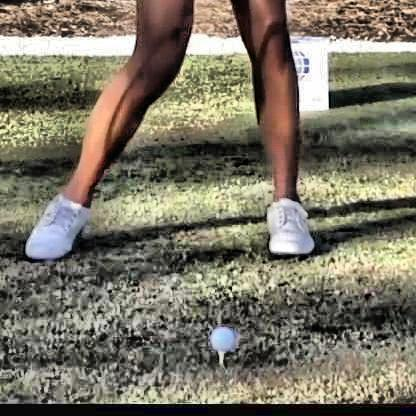golfball: (206, 323, 231, 348)
